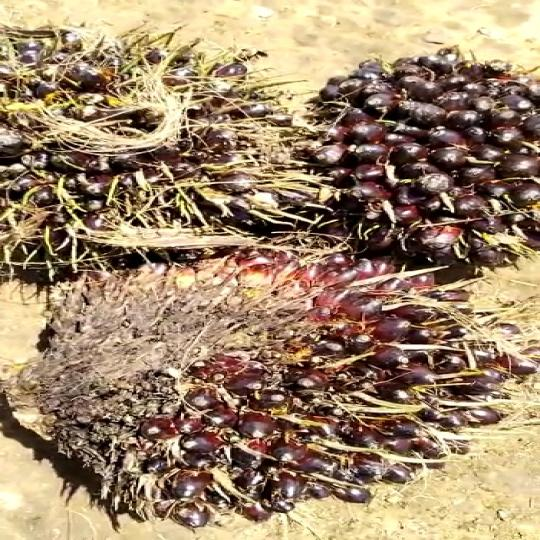mentah: (7, 252, 540, 526), (0, 8, 345, 255), (289, 50, 540, 278)
